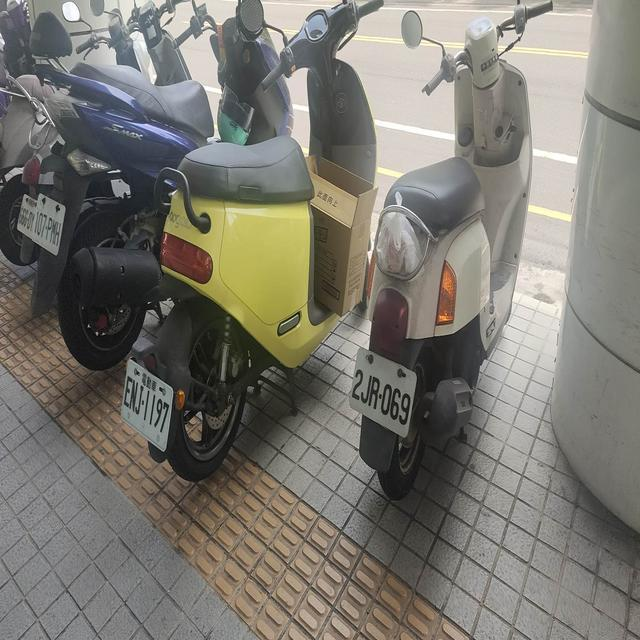plate: (344, 360, 416, 432), (116, 364, 174, 445), (28, 199, 67, 248)
